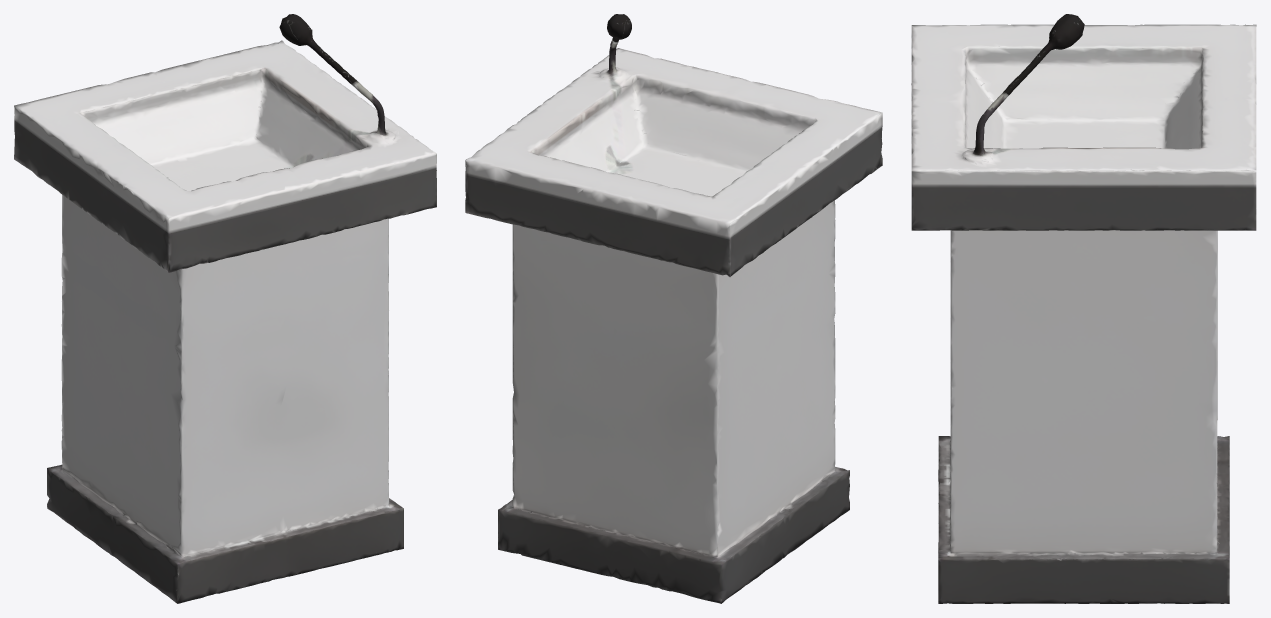
Rendered from podium.glb.
3 views of the same model, side by side, from view 1: azimuth 30°, elevation 25°; view 2: azimuth 150°, elevation 25°; view 3: azimuth 270°, elevation 25° (orthographic). The views are drawn at different scales.
Parts seen in each view (by area): view 1: model; view 2: model; view 3: model.
Boxes of the visible parts, bbox=[...] form: model: bbox=[14, 14, 436, 603]; model: bbox=[465, 14, 882, 603]; model: bbox=[911, 14, 1256, 603].
Size of the model in its own units: 1.06 by 1.9 by 1.06.
Materials: 1 (1 with a texture image).
